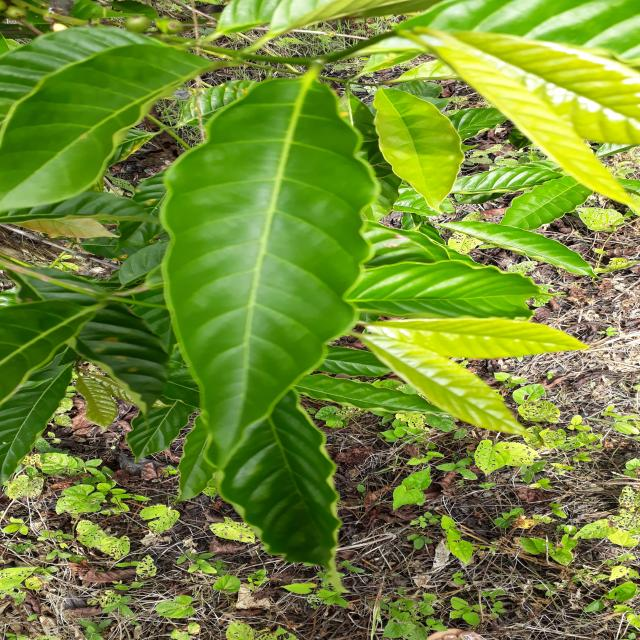Sanas: (159, 72, 377, 472)
